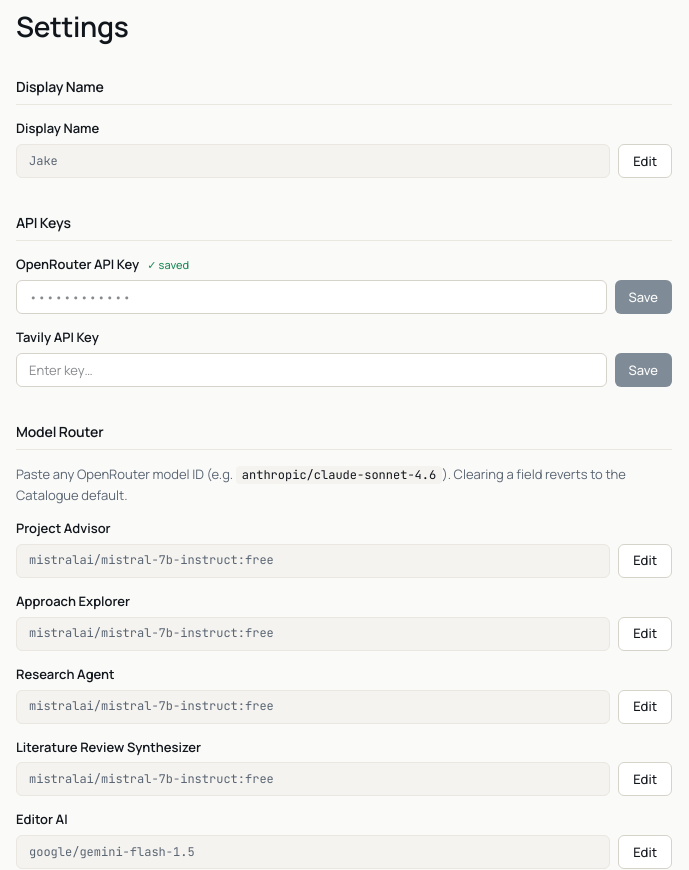
Test: SettingsPage — Edit button on model row › shows a text input after clicking Edit on a role row
The image size is (689, 870).
Step 1. Click the 2nd button "Edit" → coordinates (645, 561), box [618, 544, 672, 578]
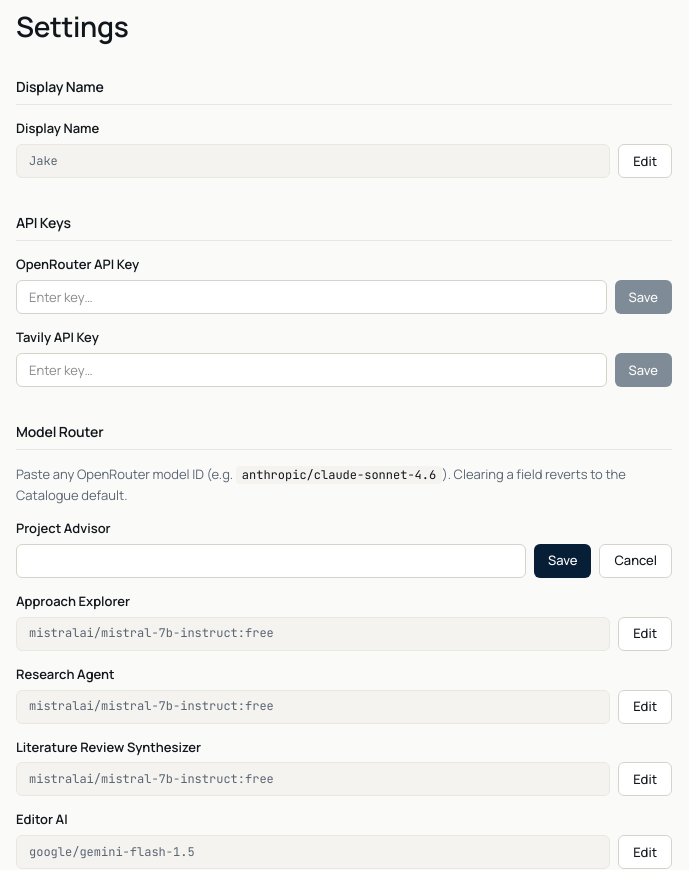
expect the field is shown: met, box [16, 544, 526, 578]
